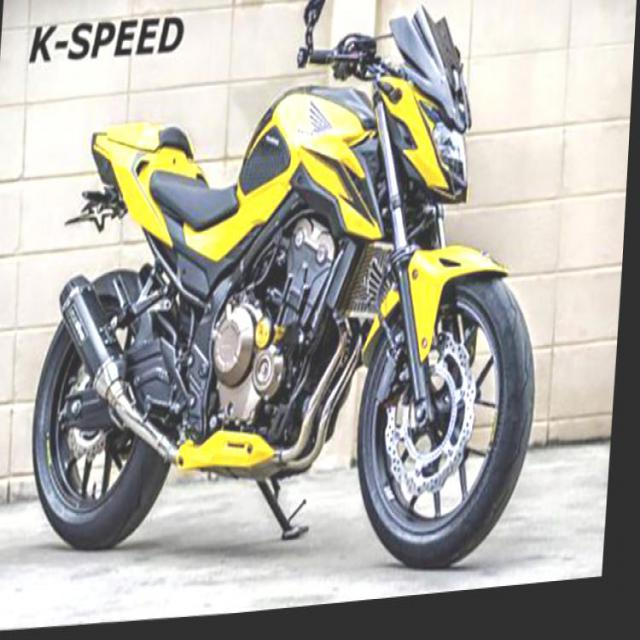CB500F: (26, 0, 566, 616)
